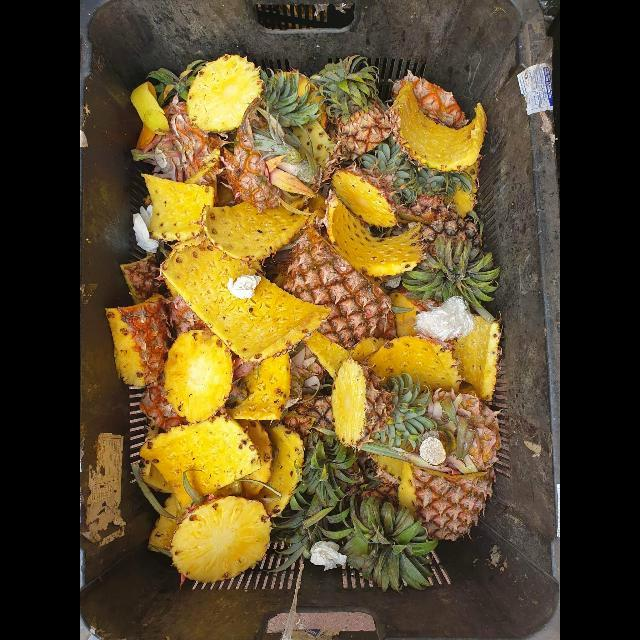paper: (133, 213, 159, 252), (227, 275, 262, 299)
plastic_bag: (413, 297, 473, 339)
